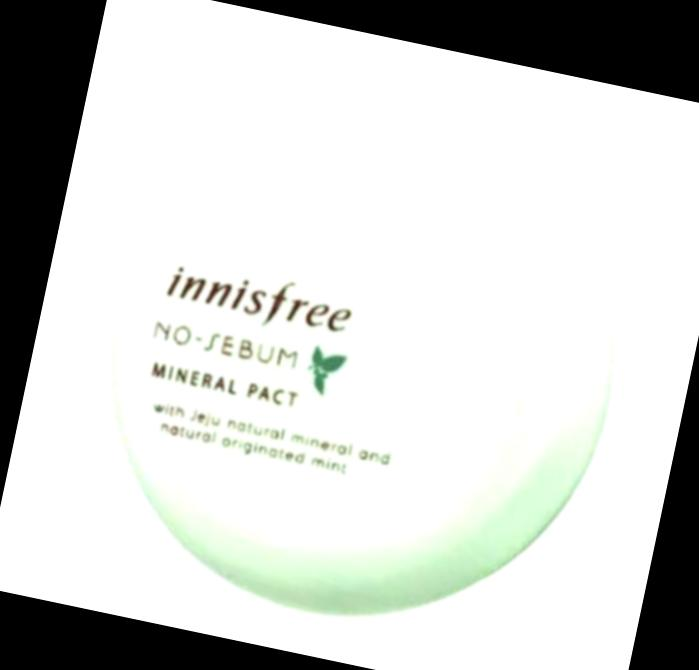cosmetic: (59, 49, 666, 668)
